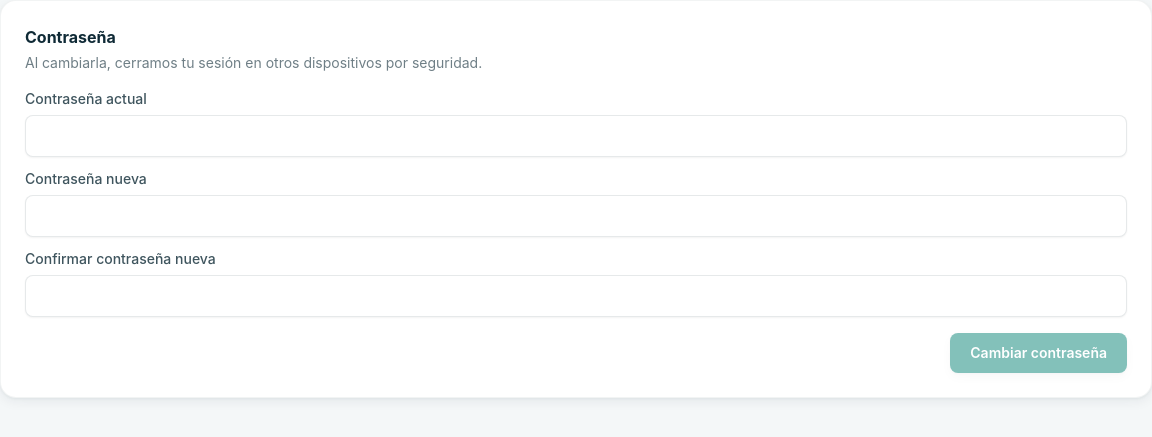
TarjetaPassword (Módulo 05, HU Acción 3) › deshabilita el botón si la confirmación no coincide
Type "actual123" into the password field labelled "Contraseña actual" at [576, 136], box x1=25 y1=115 x2=1127 y2=157
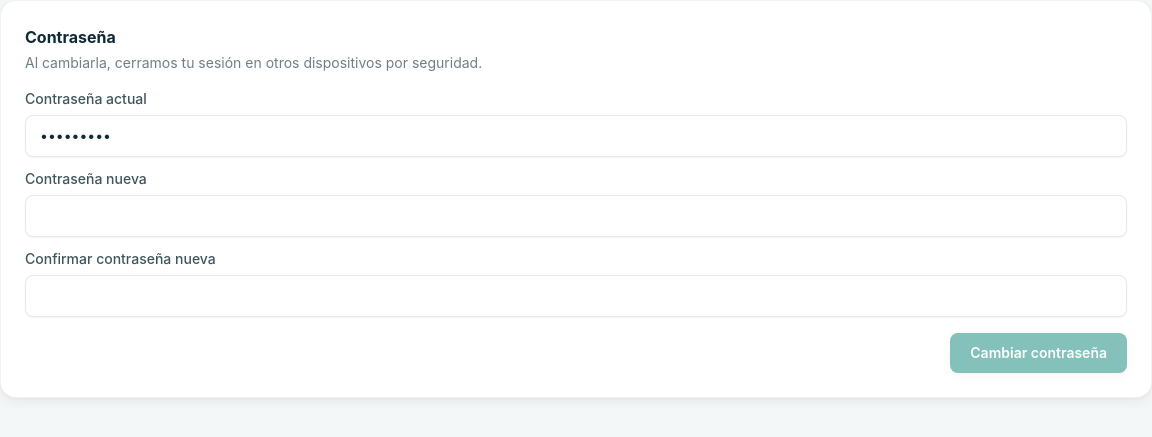
Type "NuevaClave123" into the password field labelled "Contraseña nueva" at [576, 216], box x1=25 y1=195 x2=1127 y2=237
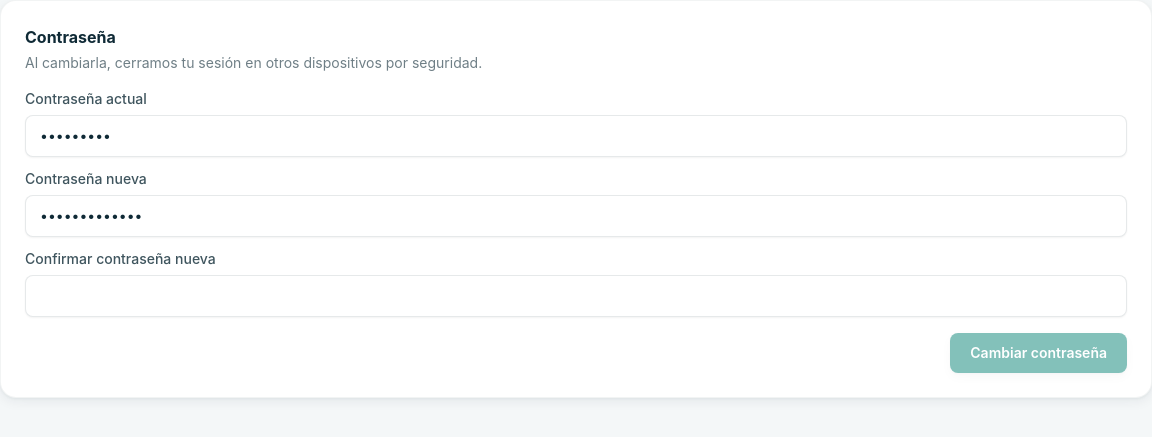
Type "OtraCosa123" into the password field labelled "Confirmar contraseña nueva" at [576, 296], box x1=25 y1=275 x2=1127 y2=317
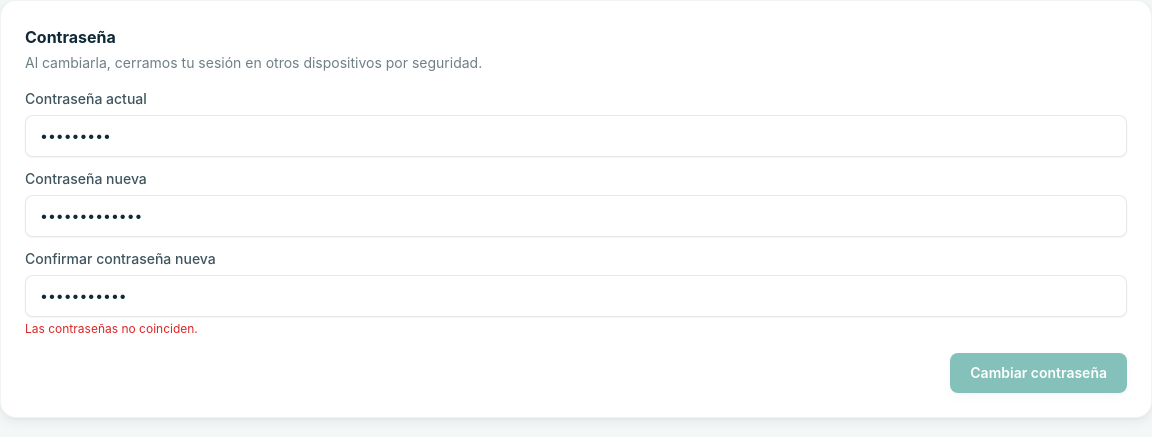
Expected: the button "Cambiar contraseña" is disabled, x1=950 y1=353 x2=1127 y2=393
Result: the text "Las contraseñas no coinciden." is shown at x1=25 y1=321 x2=198 y2=336
